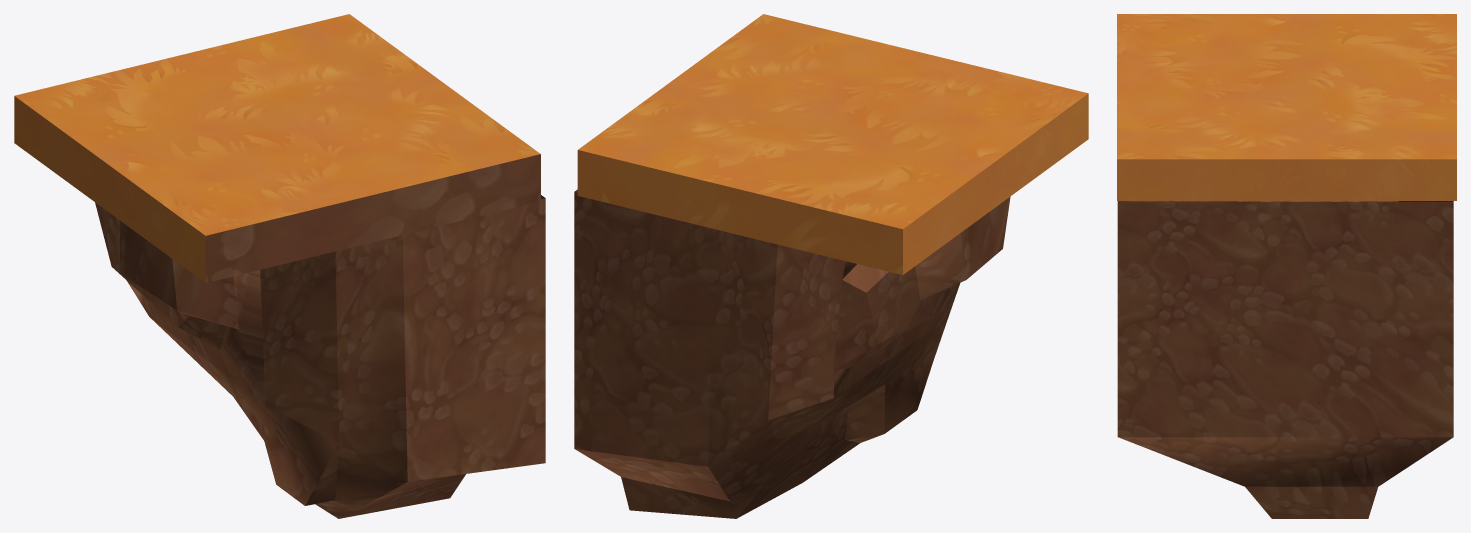
The model's file is Ground Center.FBX.
The picture shows the model from 3 angles, left to right: view 1: azimuth 30°, elevation 25°; view 2: azimuth 150°, elevation 25°; view 3: azimuth 270°, elevation 25°; orthographic projection. The views are drawn at different scales.
Visible parts, largest first — view 1: Object001; view 2: Object001; view 3: Object001.
Part boxes in pixels (x1,y1,x2,y2): Object001: [14, 14, 545, 518]; Object001: [574, 14, 1088, 518]; Object001: [1117, 14, 1456, 518].
Size of the model in its own units: 39.93 by 45.63 by 38.87.
